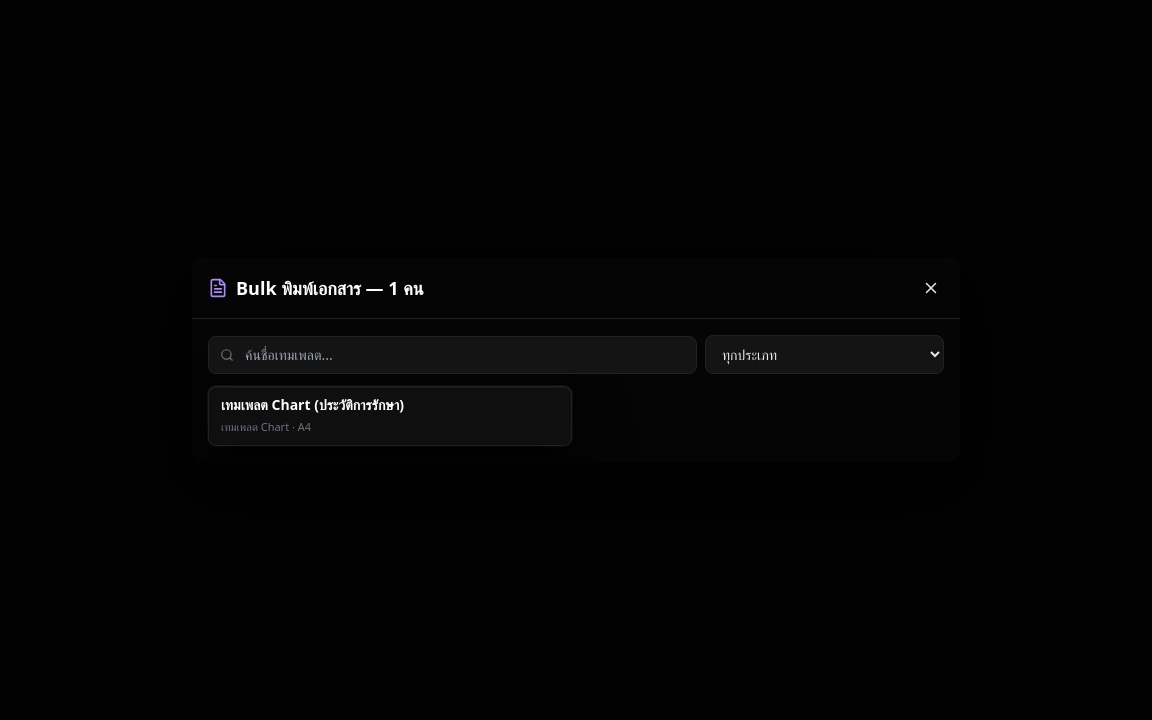
BulkPrintModal smart staff-select (V32-tris) › SP1.2 typing into search filters the dropdown list
Step 1. Click the button with test id "bulk-print-template-chart-tpl" → (390, 416), box [208, 386, 572, 446]
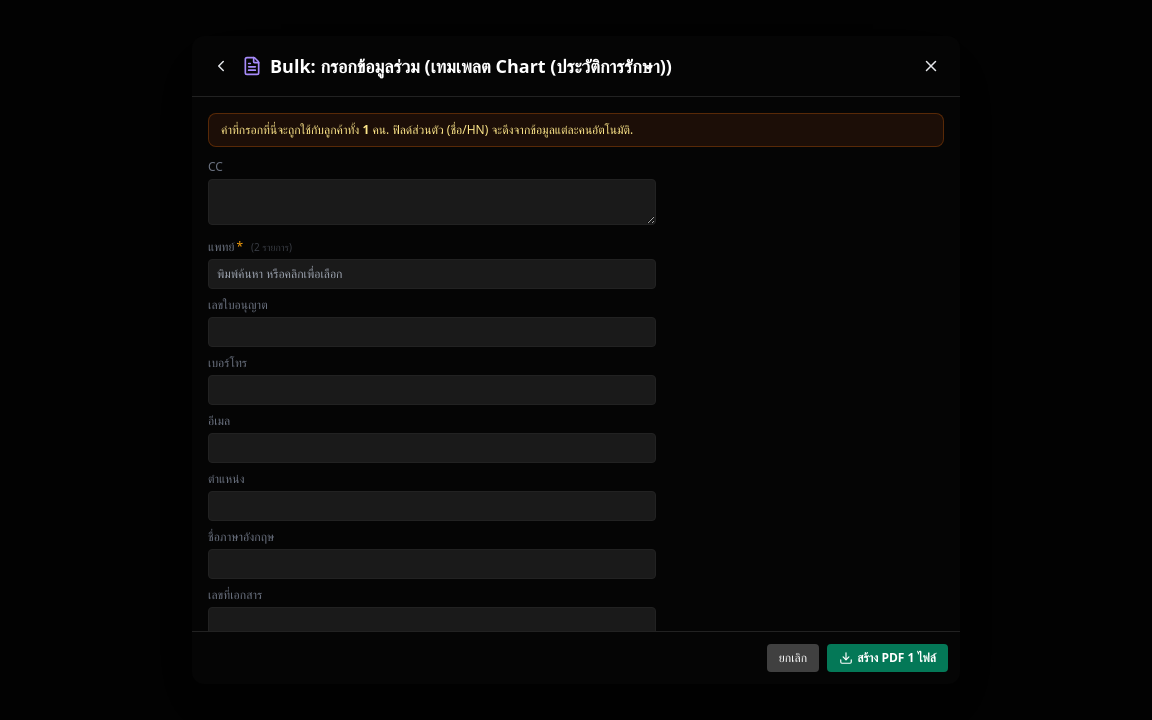
Now the element with test id "staff-select-doctorName" is shown, box [208, 239, 656, 289]
// Open the dropdown by focusing the input
Step 2. Focus the field with placeholder "พิมพ์ค้นหา หรือคลิกเพื่อเลือก" → (432, 274), box [208, 259, 656, 289]
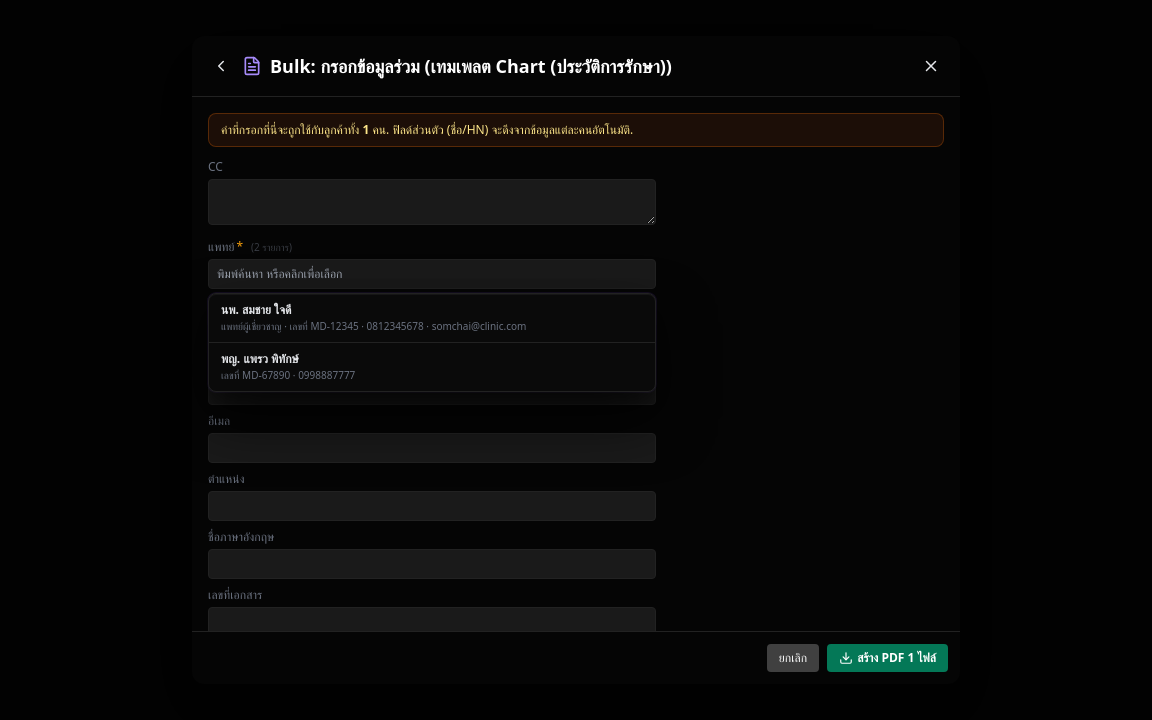
Now the text "นพ. สมชาย ใจดี" is shown, box [221, 301, 292, 318]
Now the text "พญ. แพรว พิทักษ์" is shown, box [221, 350, 299, 367]
// Type "สมชาย" — list should filter to one
Step 3. Type "สมชาย" into the field with placeholder "พิมพ์ค้นหา หรือคลิกเพื่อเลือก" → (432, 274), box [208, 259, 656, 289]
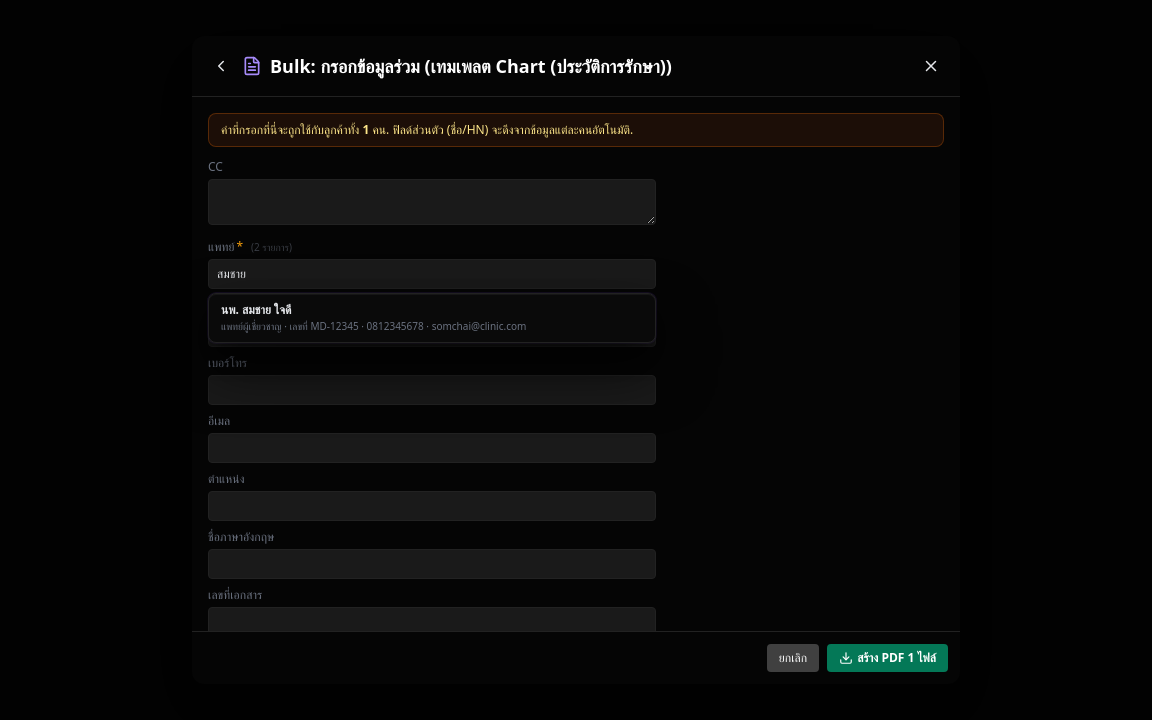
Now the text "นพ. สมชาย ใจดี" is shown, box [221, 301, 292, 318]
Now the button "พญ. แพรว พิทักษ์" is gone
